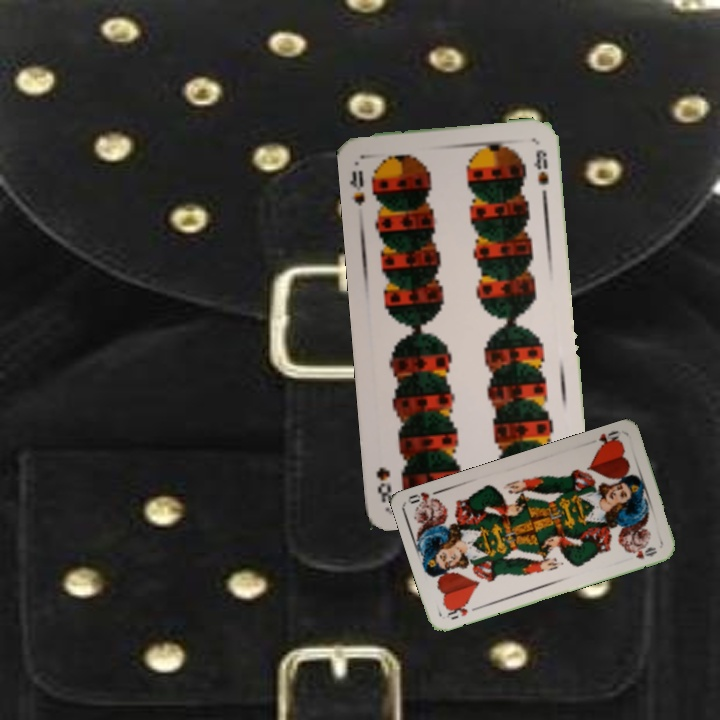HO: (442, 599, 482, 622), (595, 426, 623, 451)
S8: (346, 166, 367, 208)
